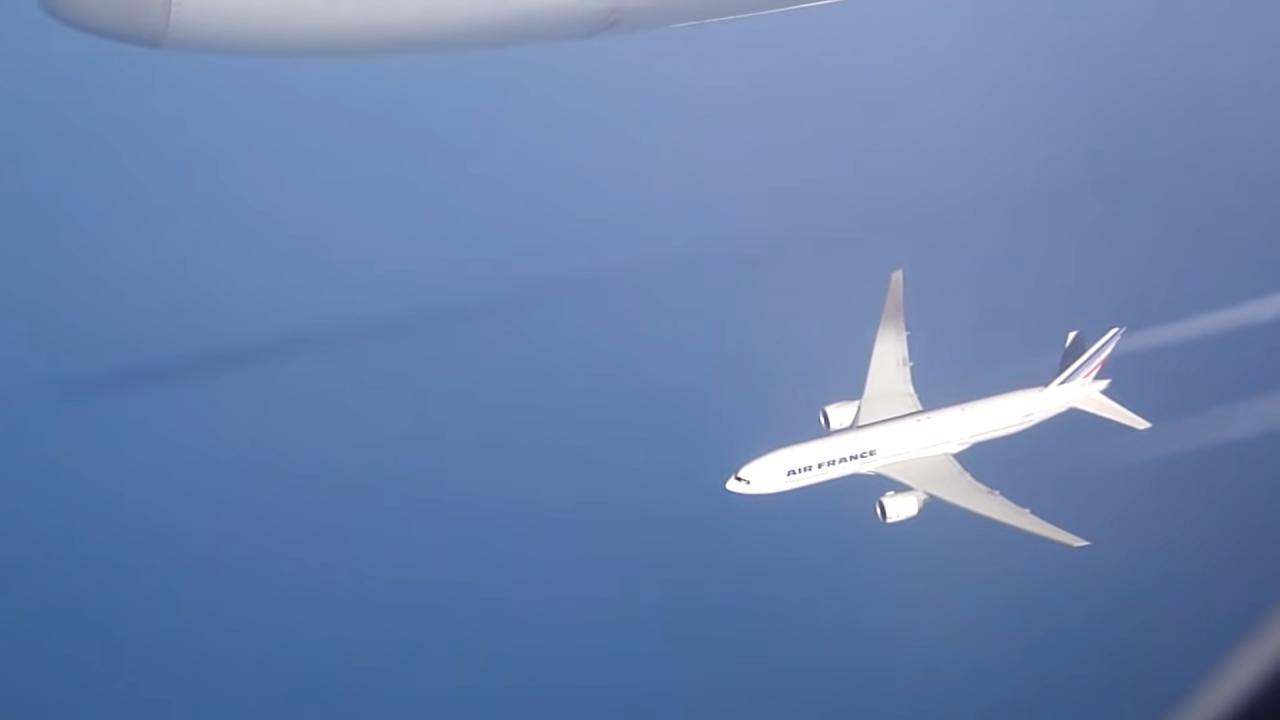Airplane: (714, 258, 1160, 560)
